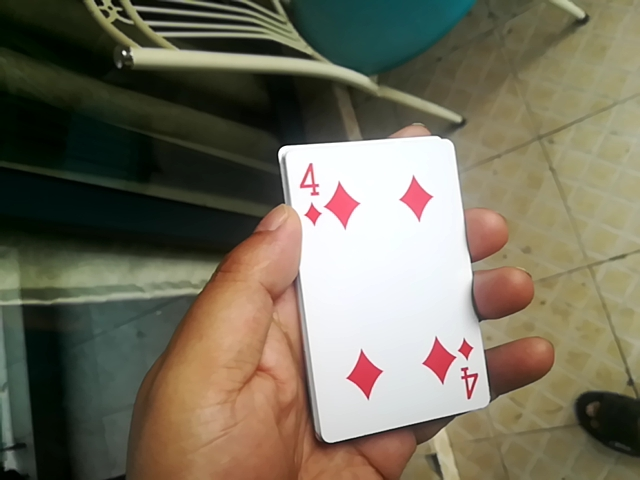fk 4: (285, 132, 488, 455)
